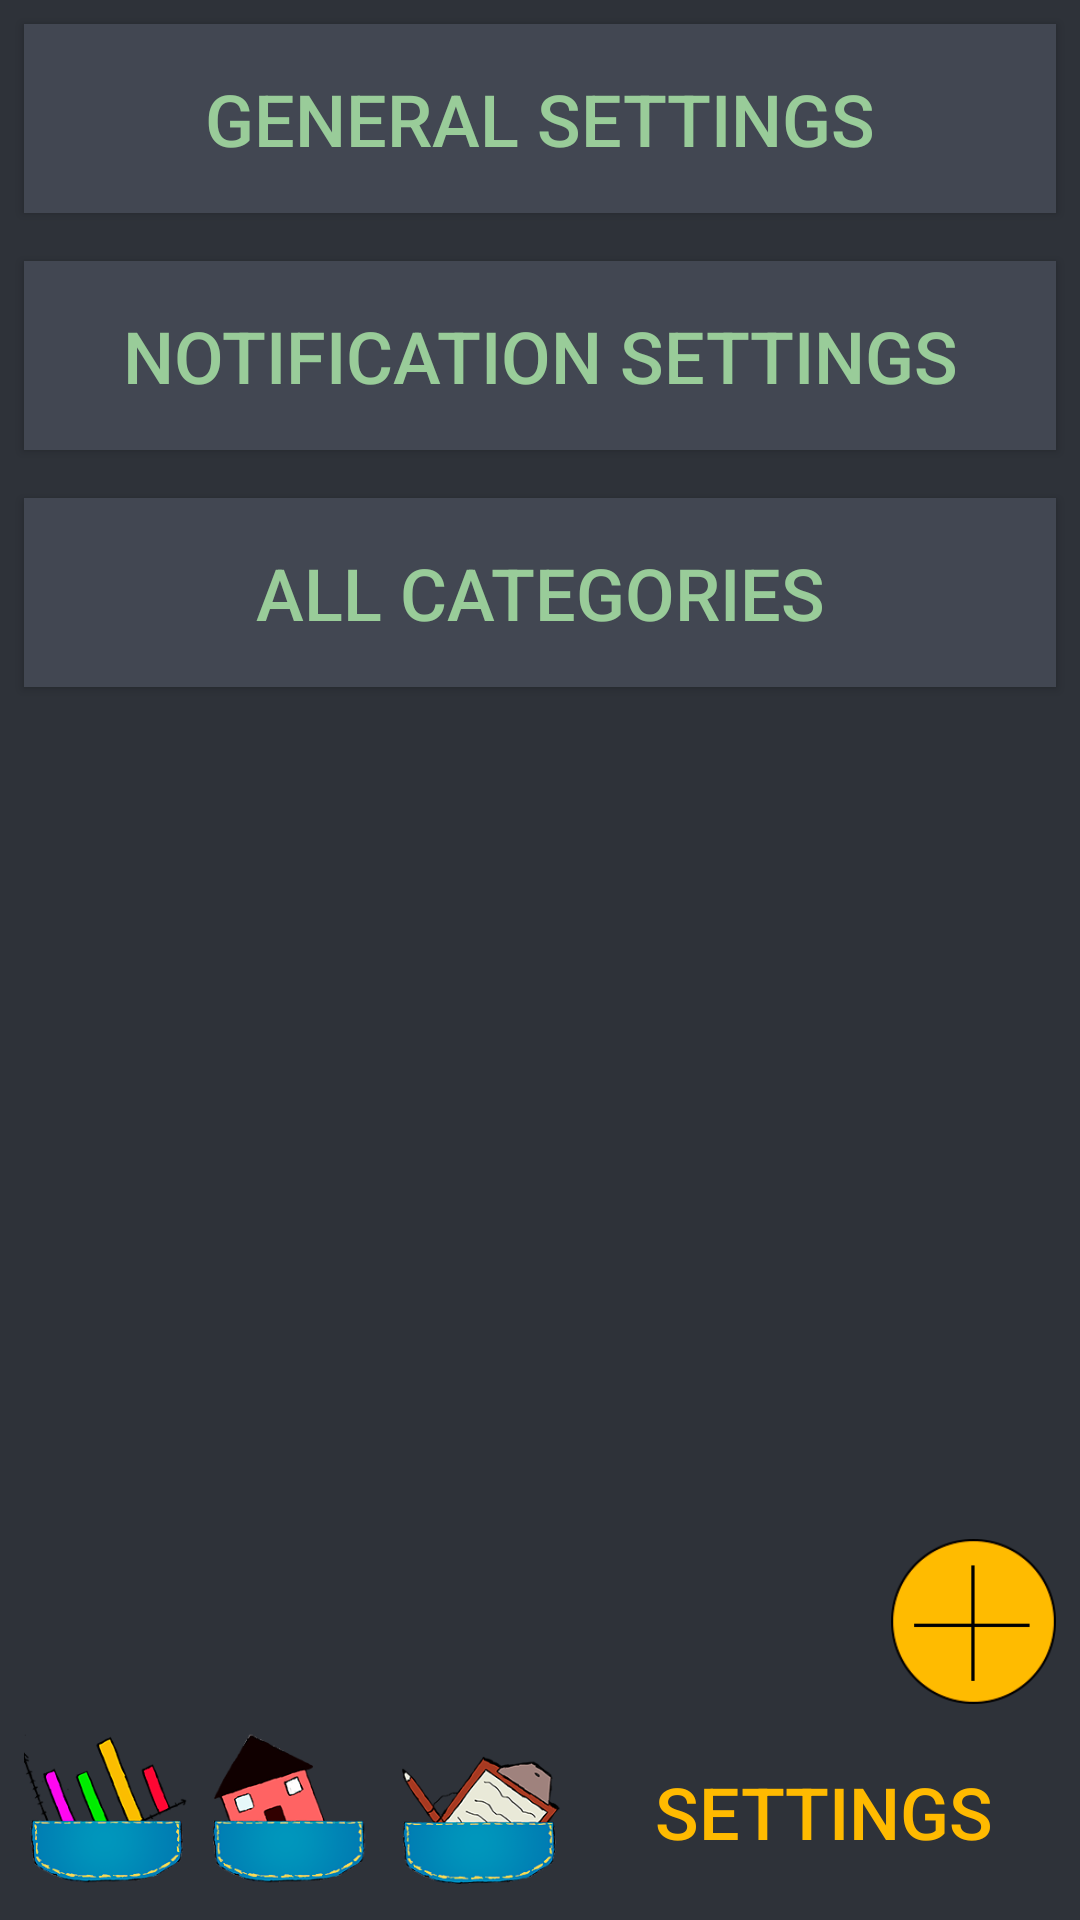

Where to tap for icons on this 1080×1920 app screen, as [x,y]:
add: [973,1621]
home: [288,1808]
inventory: [480,1820]
statistics: [105,1809]
